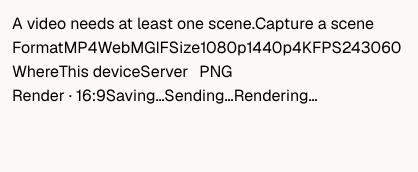
Test case: export in the cluster panel › offers Capture as the way out, and the note goes once a scene exists
The image size is (418, 172).
Step 1. Click the button "Capture a scene" → (314, 24), box [255,12,374,36]
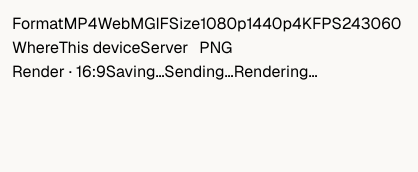
Result: the button "Render · 16:9Saving…Sending…Rendering…" is enabled at [12,60,318,84]
